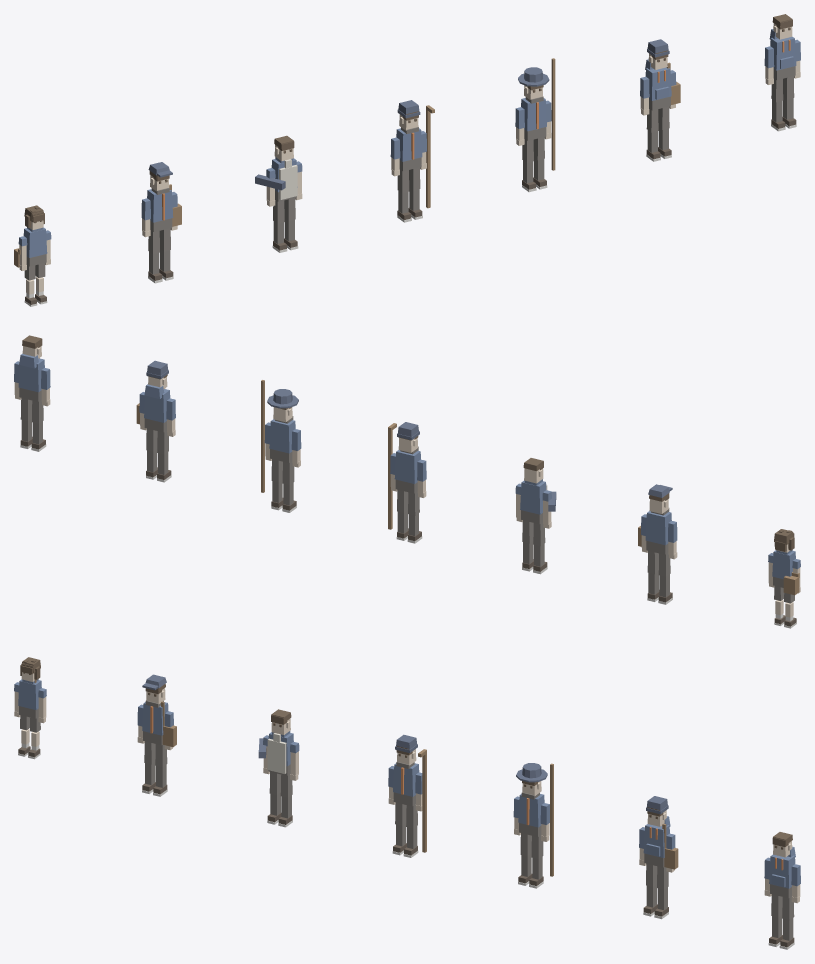
The model's file is characters.glb.
3 renders of one model, top to bottom at view 1: azimuth 30°, elevation 25°; view 2: azimuth 150°, elevation 25°; view 3: azimuth 330°, elevation 25°, orthographic.
Parts seen in each view (by area): view 1: Villager_Fisher, Villager_Shepherd, Villager_Artist, Villager_Baker, Villager_Postmaster, Villager_Keeper, Courier, Villager_Fisher.HEAD, Villager_Shepherd.LEG_L, Villager_Artist.LEG_L, Villager_Keeper.LEG_L, Villager_Postmaster.LEG_L (+11 smaller); view 2: Villager_Shepherd, Villager_Fisher, Villager_Artist, Villager_Baker, Villager_Keeper, Villager_Postmaster, Courier, Villager_Fisher.HEAD, Villager_Fisher.LEG_L, Villager_Baker.LEG_L, Villager_Postmaster.LEG_L, Villager_Keeper.LEG_L (+10 smaller); view 3: Villager_Shepherd, Villager_Fisher, Villager_Artist, Villager_Postmaster, Villager_Baker, Villager_Keeper, Courier, Villager_Fisher.HEAD, Villager_Fisher.LEG_R, Villager_Keeper.LEG_R, Villager_Postmaster.LEG_R, Villager_Baker.LEG_R (+11 smaller).
Boxes of the visible parts, bbox=[...] form: Villager_Fisher: bbox=[521, 58, 555, 170]; Villager_Shepherd: bbox=[396, 105, 434, 208]; Villager_Artist: bbox=[645, 59, 680, 110]; Villager_Baker: bbox=[255, 157, 297, 201]; Villager_Postmaster: bbox=[147, 184, 181, 231]; Villager_Keeper: bbox=[769, 29, 796, 79]; Courier: bbox=[14, 227, 47, 267]; Villager_Fisher.HEAD: bbox=[518, 67, 549, 99]; Villager_Shepherd.LEG_L: bbox=[397, 169, 411, 222]; Villager_Artist.LEG_L: bbox=[646, 108, 660, 161]; Villager_Keeper.LEG_L: bbox=[771, 78, 785, 131]; Villager_Postmaster.LEG_L: bbox=[148, 230, 162, 283]; Villager_Shepherd: bbox=[388, 423, 420, 529]; Villager_Fisher: bbox=[261, 380, 295, 492]; Villager_Artist: bbox=[136, 384, 170, 432]; Villager_Baker: bbox=[520, 479, 556, 524]; Villager_Keeper: bbox=[18, 353, 44, 401]; Villager_Postmaster: bbox=[638, 508, 671, 554]; Courier: bbox=[772, 550, 799, 595]; Villager_Fisher.HEAD: bbox=[267, 389, 298, 422]; Villager_Fisher.LEG_L: bbox=[282, 461, 296, 512]; Villager_Baker.LEG_L: bbox=[533, 522, 547, 574]; Villager_Postmaster.LEG_L: bbox=[658, 553, 672, 604]; Villager_Keeper.LEG_L: bbox=[31, 400, 46, 451]; Villager_Shepherd: bbox=[393, 749, 426, 852]; Villager_Fisher: bbox=[518, 763, 553, 876]; Villager_Artist: bbox=[643, 816, 678, 869]; Villager_Postmaster: bbox=[142, 700, 176, 747]; Villager_Baker: bbox=[258, 731, 293, 775]; Villager_Keeper: bbox=[769, 846, 795, 898]; Courier: bbox=[18, 679, 41, 718]; Villager_Fisher.HEAD: bbox=[516, 763, 547, 795]; Villager_Fisher.LEG_R: bbox=[529, 835, 543, 888]; Villager_Keeper.LEG_R: bbox=[779, 896, 794, 949]; Villager_Postmaster.LEG_R: bbox=[153, 744, 167, 796]; Villager_Baker.LEG_R: bbox=[278, 773, 292, 827].
Size of the model in its own units: 12.51 by 1.88 by 0.4863.
